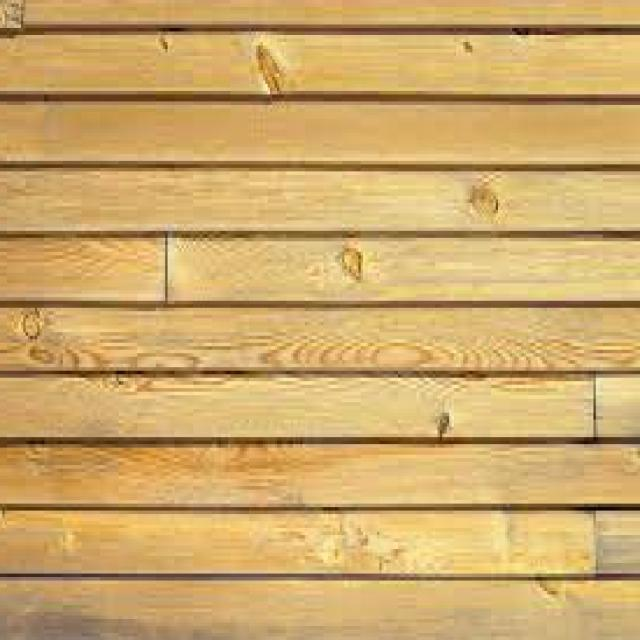perfect-wooden-plate: (0, 375, 640, 438), (0, 238, 640, 301), (0, 100, 640, 163), (0, 512, 640, 574), (0, 309, 640, 371), (0, 170, 640, 231), (0, 579, 640, 638), (0, 446, 640, 504), (0, 37, 640, 94), (25, 0, 640, 26)
